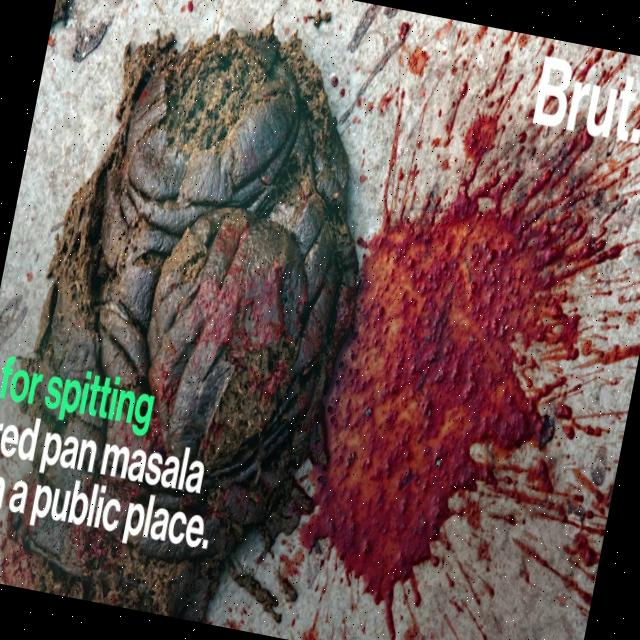spit: (318, 175, 582, 587)
